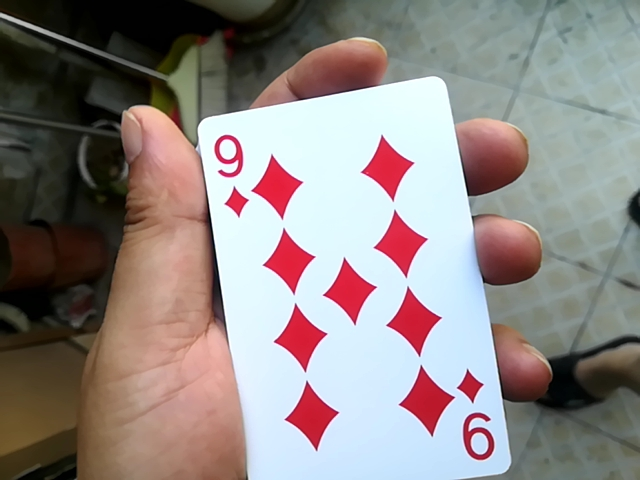fk 9: (178, 61, 486, 480)
